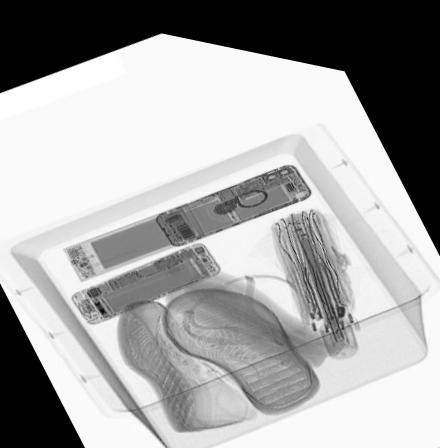Powerbank: (59, 191, 208, 280)
